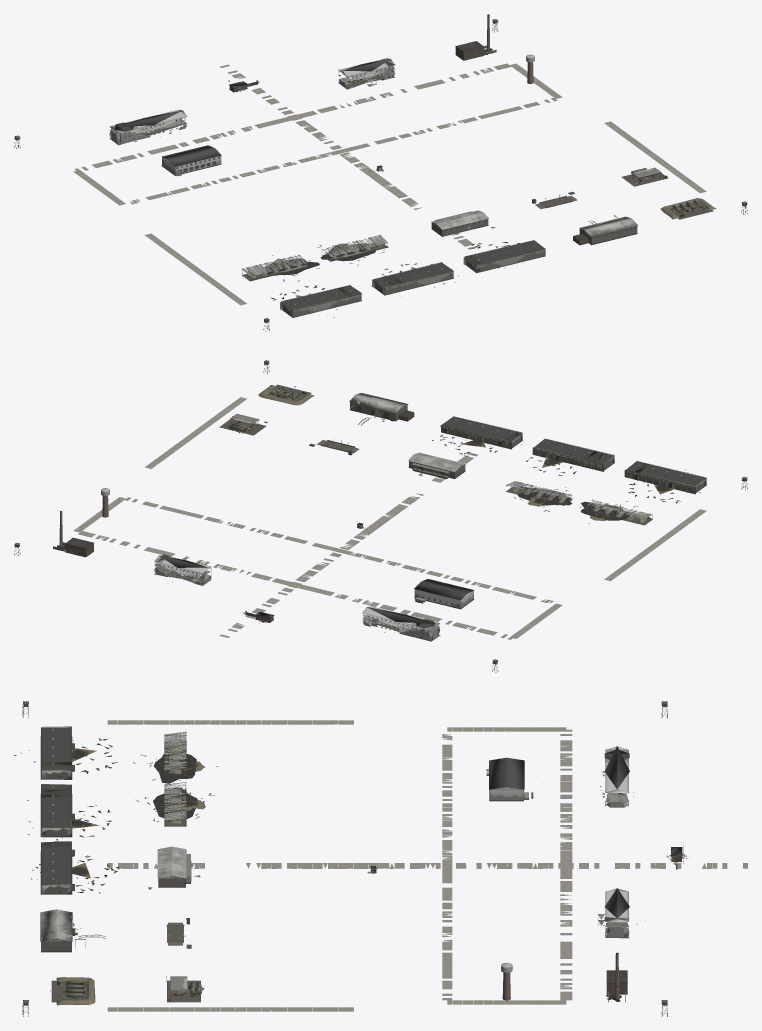
The model's file is site_garr_w_lo.glb.
The picture shows the model from 3 angles, top to bottom: view 1: azimuth 30°, elevation 25°; view 2: azimuth 150°, elevation 25°; view 3: azimuth 270°, elevation 25°; orthographic projection. The views are drawn at different scales.
Visible parts, largest first — view 1: deco|tile_conc, b_box1|A_A, b_box3|A_A, b_box2|A_A, b_pto|A_A, b_canteen|A_A, b_barracks1|A_A, b_store|A_A, b_hq|A_A, b_shelter1|A_A, b_shelter1_ruin|A_B, b_shelter2_ruin|A_B (+3 smaller); view 2: deco|tile_conc, b_box1|A_A, b_box3|A_A, b_box2|A_A, b_canteen|A_A, b_pto|A_A, b_store|A_A, b_barracks1|A_A, b_hq|A_A, b_shelter1_ruin|A_B, b_shelter2_ruin|A_B, b_shelter2|A_A (+5 smaller); view 3: deco|tile_conc, b_canteen|A_A, b_box3|A_A, b_box1|A_A, b_box2|A_A, b_pto|A_A, b_store|A_A, b_shelter1_ruin|A_B, b_barracks1|A_A, b_shelter2_ruin|A_B, b_gsm|A_A, b_hq|A_A (+9 smaller).
Boxes of the visible parts, x1,y1,x2,y2 form: deco|tile_conc: (73, 63, 706, 305); b_box1|A_A: (280, 285, 361, 317); b_box3|A_A: (463, 240, 545, 272); b_box2|A_A: (371, 262, 453, 295); b_pto|A_A: (573, 215, 637, 245); b_canteen|A_A: (161, 145, 221, 176); b_barracks1|A_A: (109, 109, 187, 145); b_store|A_A: (431, 210, 488, 236); b_hq|A_A: (338, 58, 395, 89); b_shelter1|A_A: (241, 254, 308, 281); b_shelter1_ruin|A_B: (242, 255, 319, 281); b_shelter2_ruin|A_B: (317, 235, 387, 265); deco|tile_conc: (73, 397, 706, 639); b_box1|A_A: (624, 461, 706, 494); b_box3|A_A: (440, 416, 522, 449); b_box2|A_A: (532, 438, 614, 471); b_canteen|A_A: (414, 579, 474, 609); b_pto|A_A: (349, 393, 414, 425); b_store|A_A: (408, 452, 465, 478); b_barracks1|A_A: (362, 606, 440, 641); b_hq|A_A: (154, 555, 211, 585); b_shelter1_ruin|A_B: (580, 499, 652, 523); b_shelter2_ruin|A_B: (508, 481, 572, 511); b_shelter2|A_A: (506, 481, 572, 505); deco|tile_conc: (107, 720, 747, 1011); b_canteen|A_A: (486, 757, 533, 801); b_box3|A_A: (40, 841, 74, 894); b_box1|A_A: (40, 726, 74, 779); b_box2|A_A: (40, 784, 74, 837); b_pto|A_A: (40, 909, 105, 952); b_store|A_A: (157, 846, 191, 887); b_shelter1_ruin|A_B: (133, 732, 218, 783); b_barracks1|A_A: (602, 746, 629, 802); b_shelter2_ruin|A_B: (135, 787, 214, 824); b_gsm|A_A: (50, 977, 94, 1004); b_hq|A_A: (597, 888, 629, 932).
Size of the model in its own units: 420 by 30.35 by 432.
50 materials, 34 textured.
